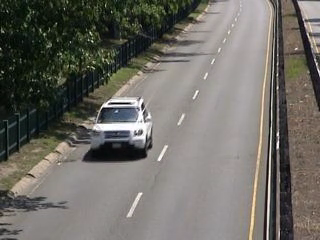car: (88, 93, 163, 160)
